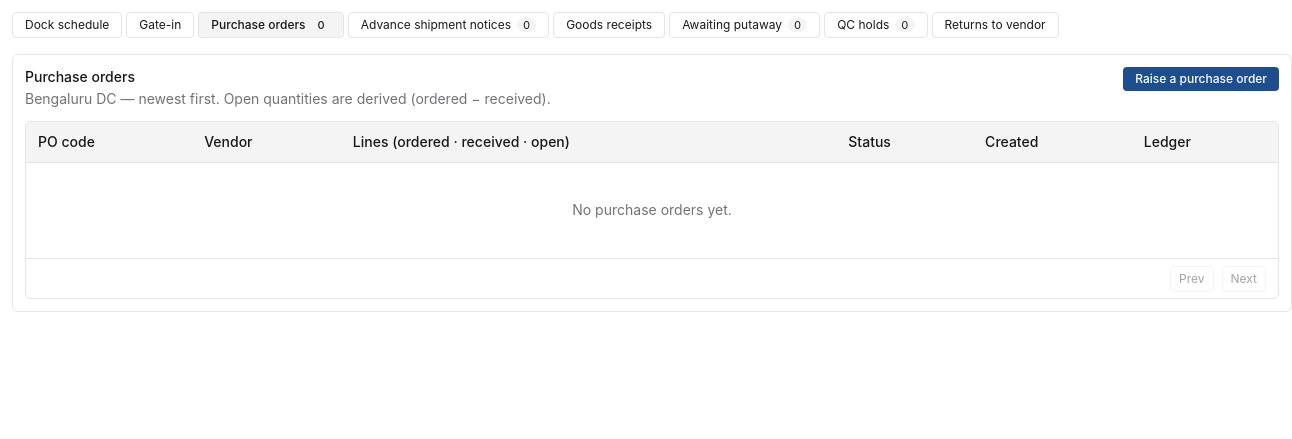
Test: PoCreateForm › the clients read failed: "Client list unavailable" and Raise disabled
The width and height of the screenshot is (1292, 439).
Click the button "Raise a purchase order" at (1201, 79), box [1123,67,1279,91]
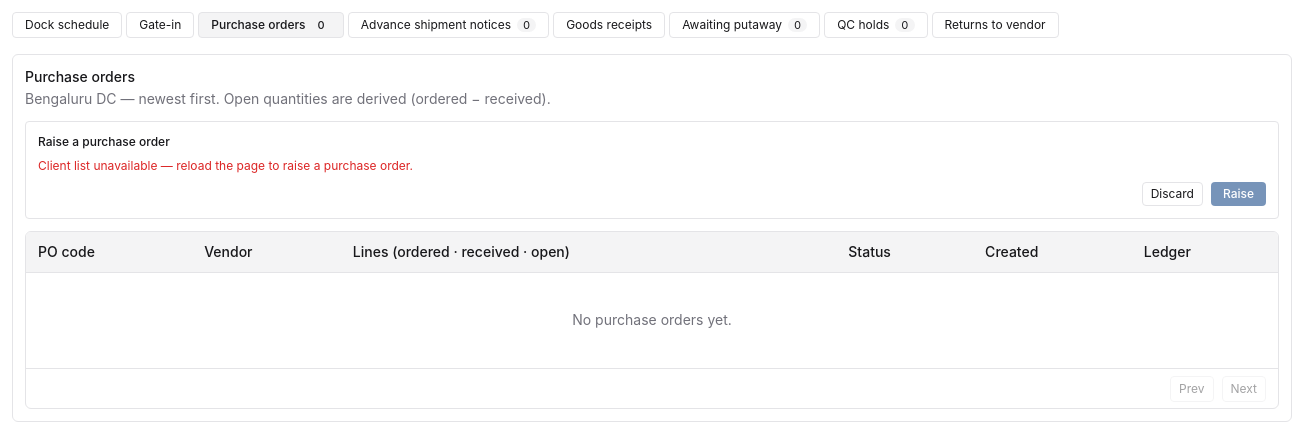
Now the form named "Raise a purchase order" is shown, box [25,121,1279,219]
Now the form named "Raise a purchase order" shows "Client list unavailable", box [38,158,413,173]
Now the button "Raise" is disabled, box [1211,182,1266,206]
